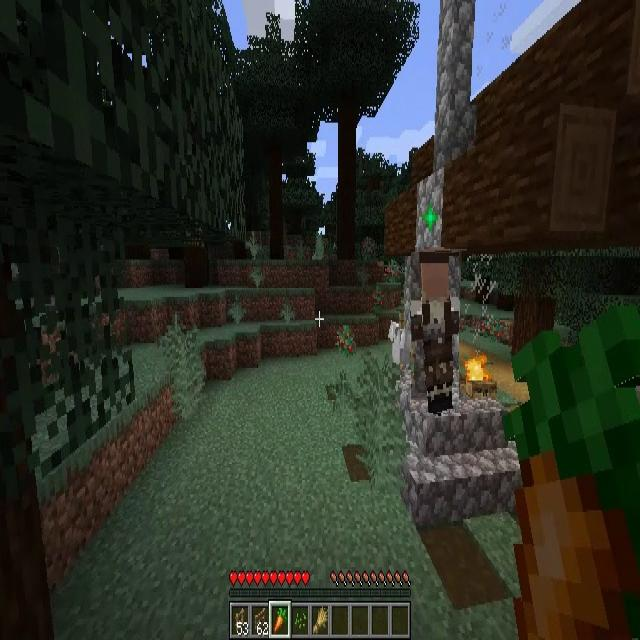people: (411, 252, 459, 413)
